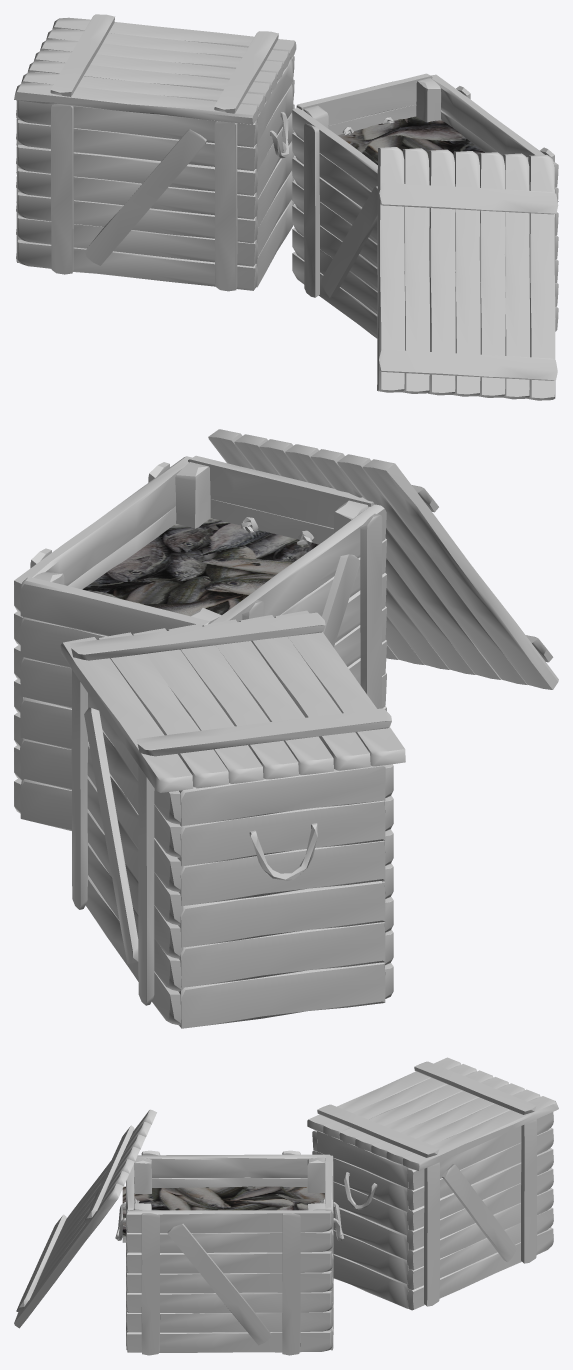
Rendered from fish_boxes_02.fbx.
The picture shows the model from 3 angles, top to bottom: view 1: azimuth 30°, elevation 25°; view 2: azimuth 150°, elevation 25°; view 3: azimuth 270°, elevation 25°; orthographic projection. The views are drawn at different scales.
Parts seen in each view (by area): view 1: Medieval box 3_box, Medieval box 3_lid.001, Medieval box 3_box.001, Medieval box 3_lid, Plane.002; view 2: Medieval box 3_box, Medieval box 3_box.001, Medieval box 3_lid, Medieval box 3_lid.001, Plane.002; view 3: Medieval box 3_box.001, Medieval box 3_box, Medieval box 3_lid, Medieval box 3_lid.001, Plane.002.
Boxes of the visible parts, x1,y1,x2,y2 form: Medieval box 3_box: (16, 56, 294, 291); Medieval box 3_lid.001: (377, 147, 558, 400); Medieval box 3_box.001: (292, 73, 558, 338); Medieval box 3_lid: (14, 14, 296, 124); Plane.002: (338, 116, 558, 201); Medieval box 3_box: (71, 670, 393, 1028); Medieval box 3_box.001: (14, 455, 386, 830); Medieval box 3_lid: (60, 610, 405, 792); Medieval box 3_lid.001: (208, 429, 558, 689); Plane.002: (82, 518, 318, 616); Medieval box 3_box.001: (115, 1150, 343, 1355); Medieval box 3_box: (312, 1112, 553, 1310); Medieval box 3_lid: (307, 1057, 558, 1170); Medieval box 3_lid.001: (14, 1109, 156, 1328); Plane.002: (122, 1186, 324, 1242).
Size of the model in its own units: 316 by 183 by 500.
